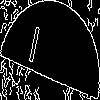I: (25, 25, 42, 73)
